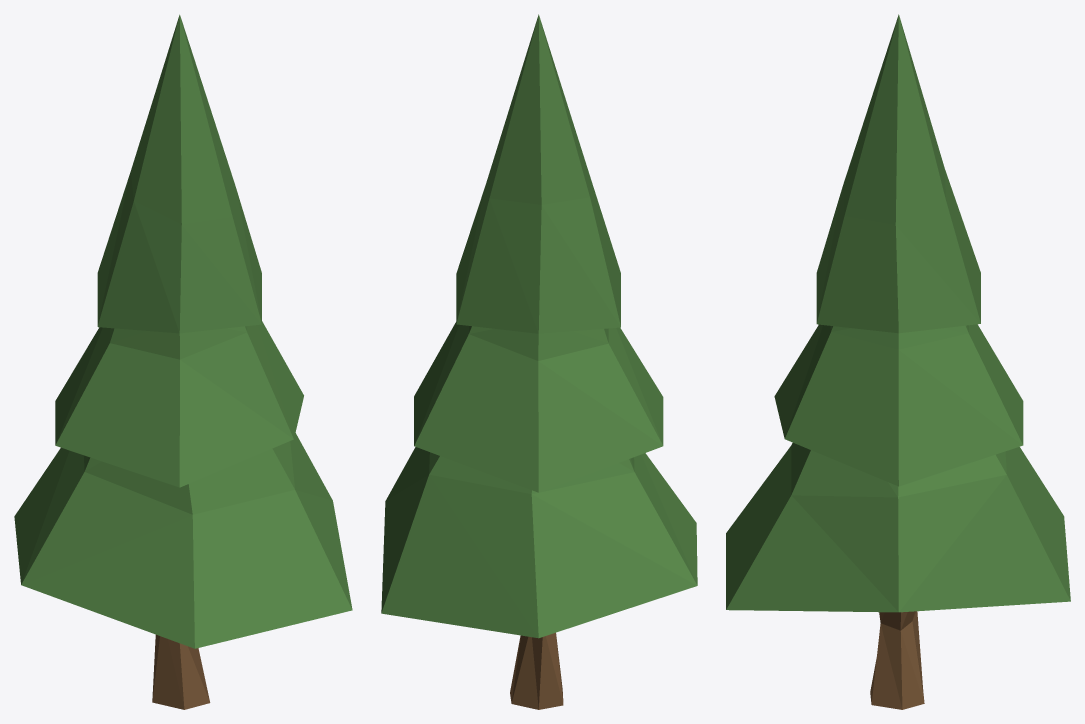
File: tree3d-021.glb
The picture shows the model from 3 angles, left to right: view 1: azimuth 30°, elevation 25°; view 2: azimuth 150°, elevation 25°; view 3: azimuth 270°, elevation 25°; orthographic projection.
Visible parts, largest first — view 1: tree3d-021; view 2: tree3d-021; view 3: tree3d-021.
Part boxes in pixels (<box>): tree3d-021: <box>14,14,352,709</box>; tree3d-021: <box>381,14,697,709</box>; tree3d-021: <box>726,14,1070,709</box>.
Size of the model in its own units: 0.4777 by 1 by 0.4577.
